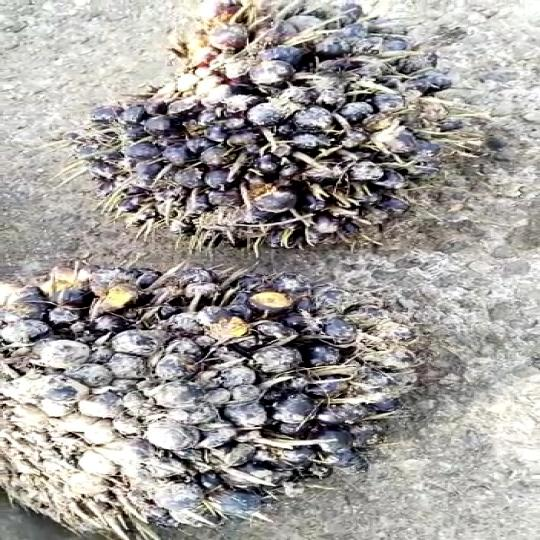mentah: (0, 255, 419, 540), (84, 0, 500, 246)
